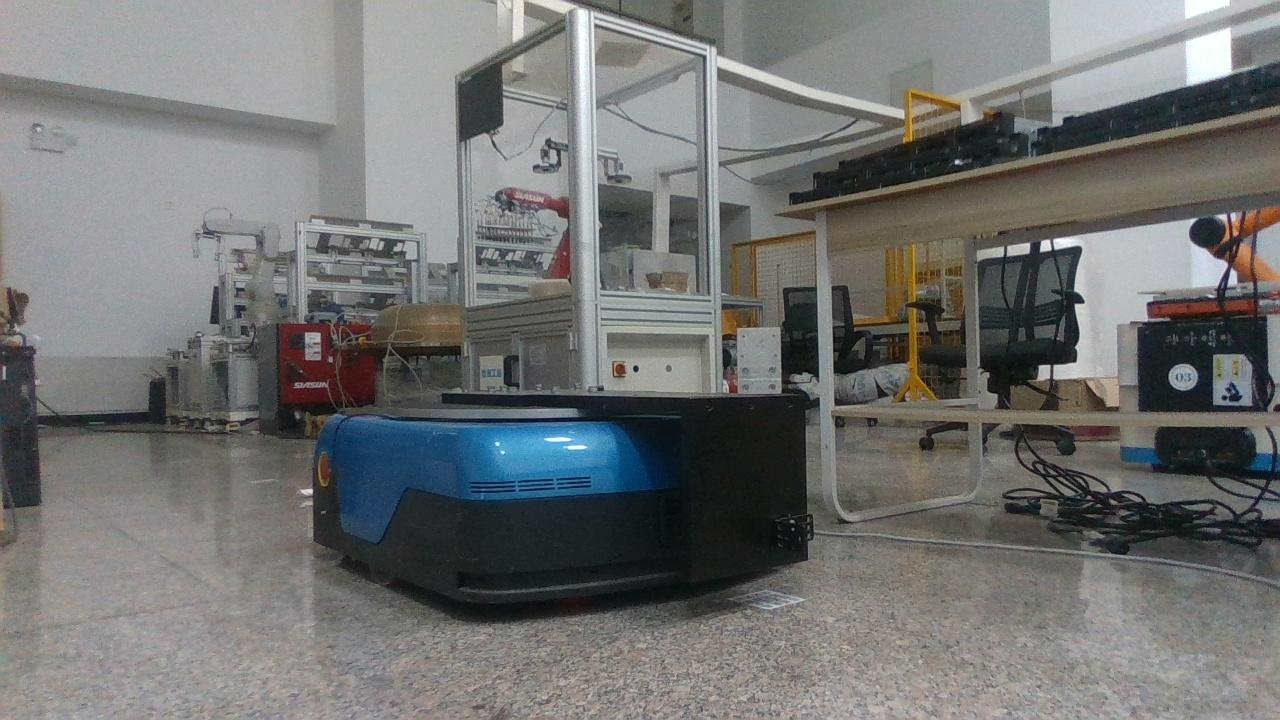AGV: (312, 392, 814, 601)
